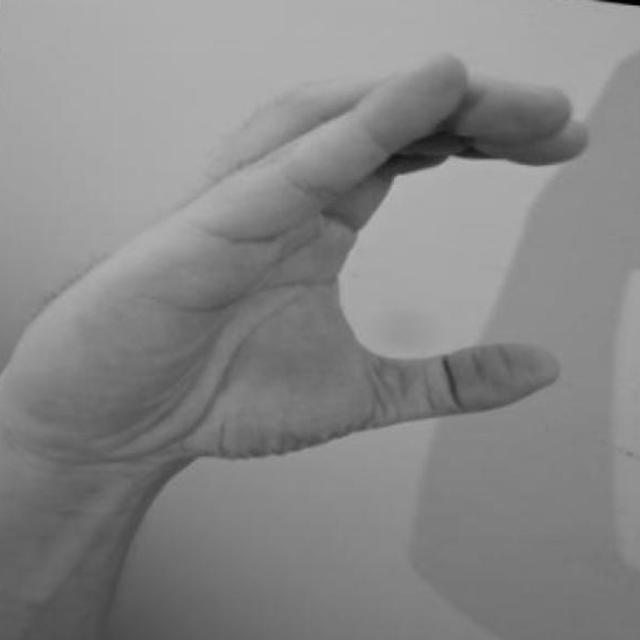C: (12, 32, 604, 480)
